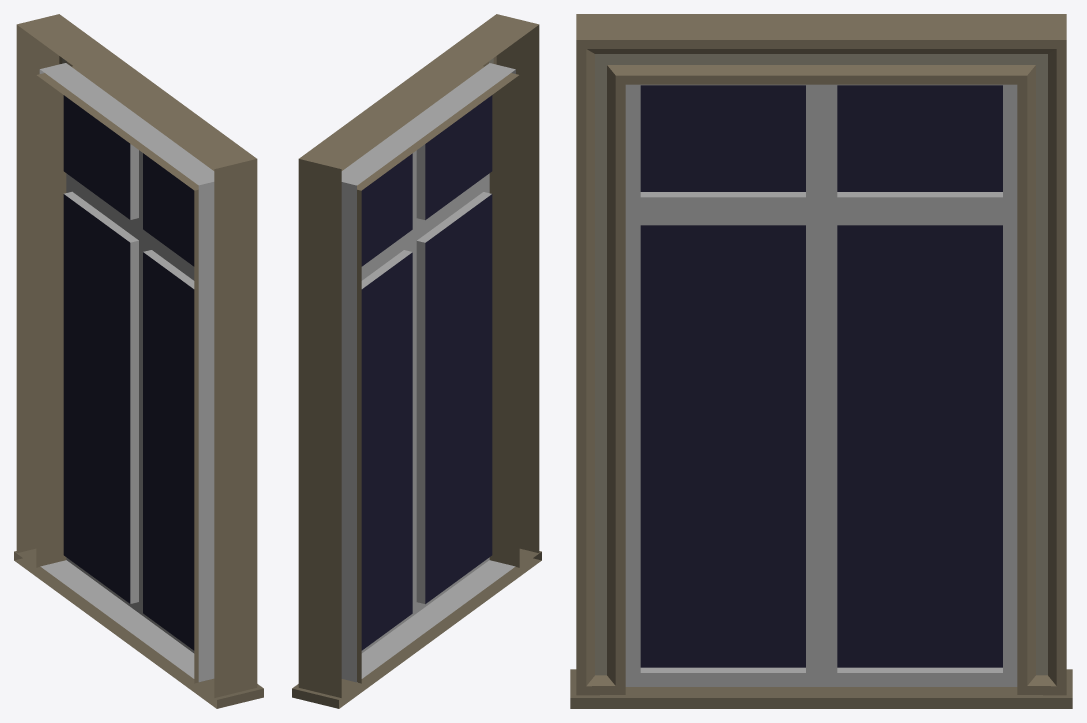
The model's file is Window_4.fbx.
The picture shows the model from 3 angles, left to right: view 1: azimuth 30°, elevation 25°; view 2: azimuth 150°, elevation 25°; view 3: azimuth 270°, elevation 25°; orthographic projection. The views are drawn at different scales.
Visible parts, largest first — view 1: Window_4; view 2: Window_4; view 3: Window_4.
Boxes of the visible parts, x1,y1,x2,y2 form: Window_4: (14, 14, 263, 708); Window_4: (292, 14, 541, 708); Window_4: (570, 14, 1072, 708).
Size of the model in its own units: 11 by 120 by 82.
